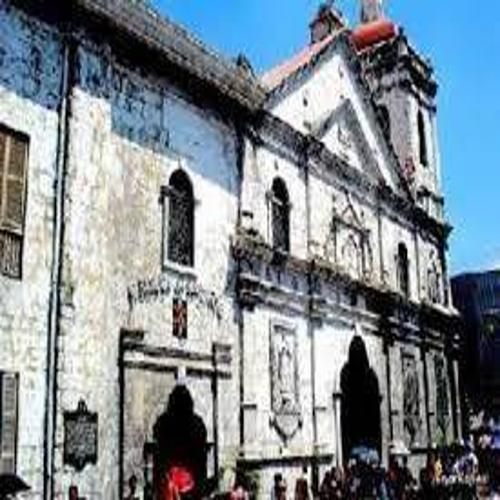Sto. Nino Basilica Church: (242, 1, 473, 480)
